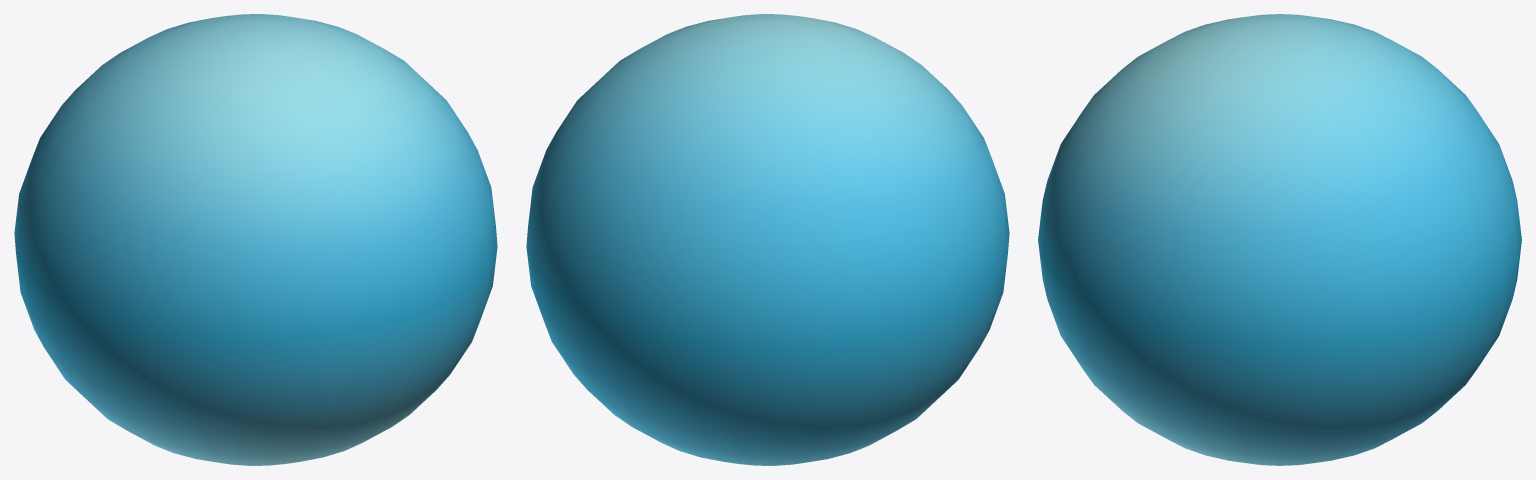
Rendered from environment.fbx.
3 views of the same model, side by side, from view 1: azimuth 30°, elevation 25°; view 2: azimuth 150°, elevation 25°; view 3: azimuth 270°, elevation 25° (orthographic).
Visible parts, largest first — view 1: Sky; view 2: Sky; view 3: Sky.
Boxes of the visible parts, x1=… form: Sky: x1=14, y1=14, x2=497, y2=465; Sky: x1=526, y1=14, x2=1009, y2=465; Sky: x1=1038, y1=14, x2=1521, y2=465.
Bounding box in the file's own units: 7092 × 6540 × 7092.
